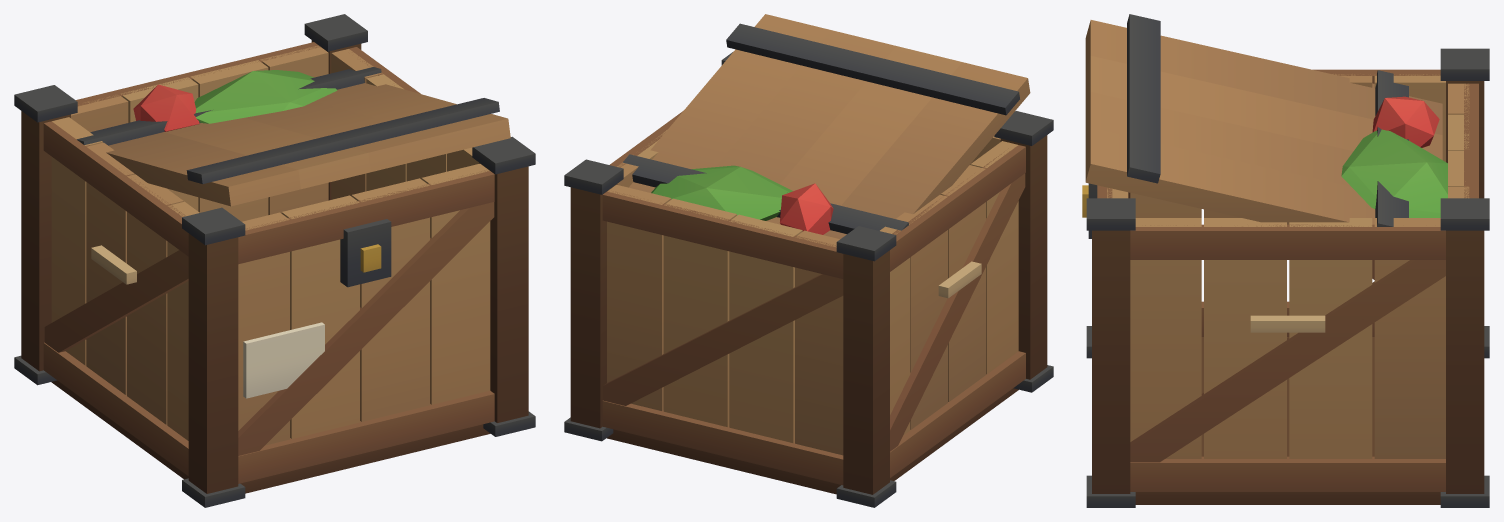
File: logi_storage_crate.glb
3 views of the same model, side by side, from view 1: azimuth 30°, elevation 25°; view 2: azimuth 150°, elevation 25°; view 3: azimuth 270°, elevation 25° (orthographic). The views are drawn at different scales.
Parts seen in each view (by area): view 1: logi_storage_crate; view 2: logi_storage_crate; view 3: logi_storage_crate.
Boxes of the visible parts, x1,y1,x2,y2 form: logi_storage_crate: (14, 14, 535, 507); logi_storage_crate: (564, 14, 1053, 507); logi_storage_crate: (1082, 14, 1489, 507).
Bounding box in the file's own units: 3.8 × 3.52 × 3.82.
Materials: 1 (1 with a texture image).
